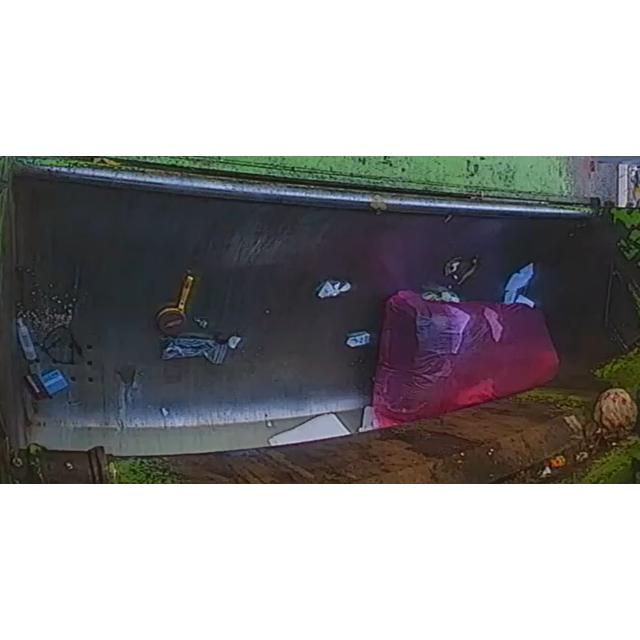other_trashbag: (371, 291, 559, 425)
